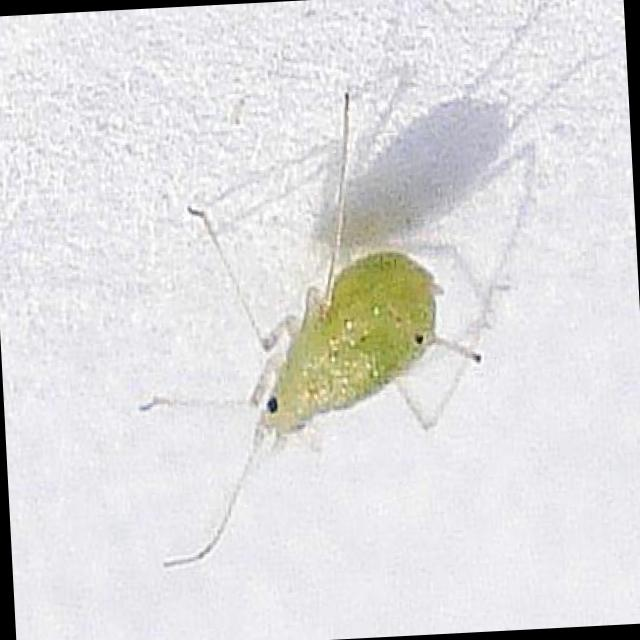Aphid: (150, 98, 518, 560)
